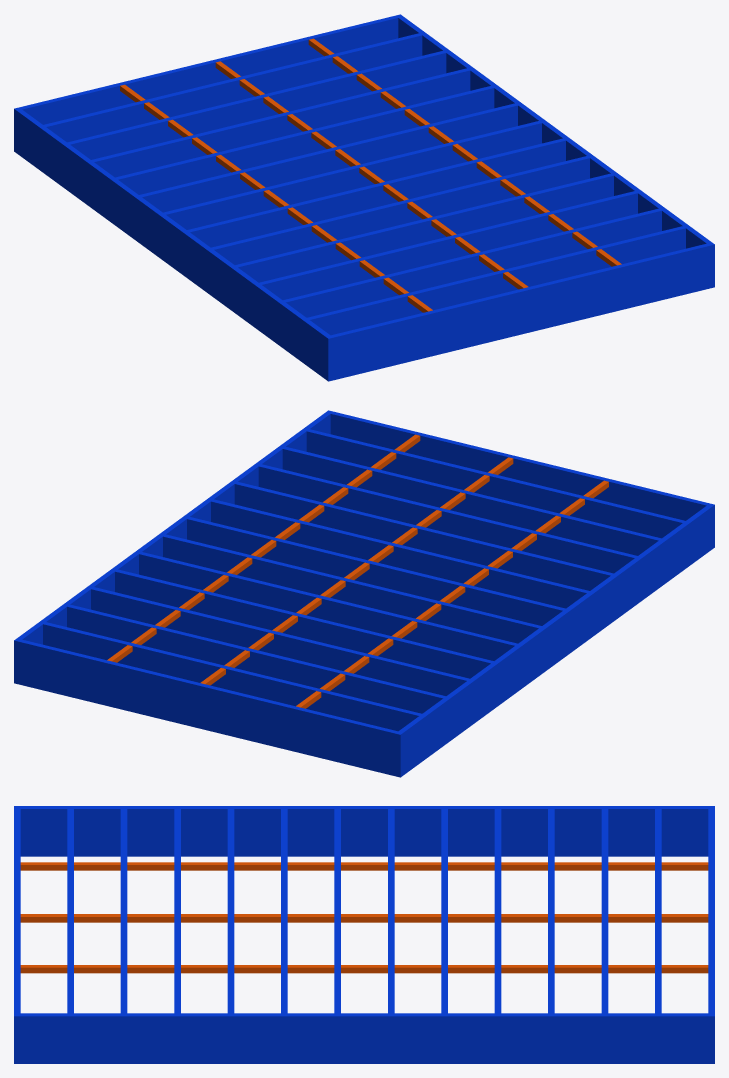
File: Cage.fbx
The picture shows the model from 3 angles, top to bottom: view 1: azimuth 30°, elevation 25°; view 2: azimuth 150°, elevation 25°; view 3: azimuth 270°, elevation 25°; orthographic projection. The views are drawn at different scales.
Visible parts, largest first — view 1: Cube.001, Cube.004; view 2: Cube.001, Cube.004; view 3: Cube.001, Cube.004.
Part boxes in pixels (x1=…): Cube.001: x1=14, y1=14, x2=714, y2=381; Cube.004: x1=120, y1=38, x2=621, y2=312; Cube.001: x1=14, y1=410, x2=714, y2=777; Cube.004: x1=107, y1=434, x2=608, y2=708; Cube.001: x1=14, y1=806, x2=714, y2=1063; Cube.004: x1=20, y1=862, x2=708, y2=973.
Bounding box in the file's own units: 423 × 44.69 × 595.
